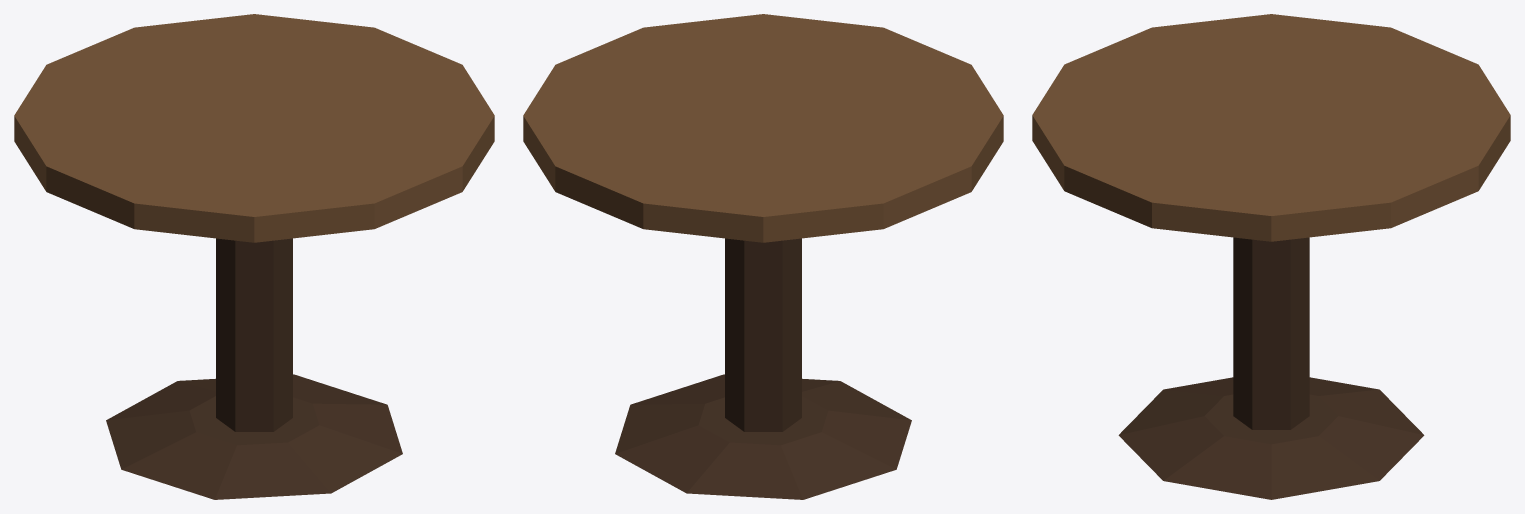
File: SM_Wood_Table_Round_A.glb
3 renders of one model, left to right at view 1: azimuth 30°, elevation 25°; view 2: azimuth 150°, elevation 25°; view 3: azimuth 270°, elevation 25°, orthographic.
Visible parts, largest first — view 1: SM_Wood_Table_Round_A; view 2: SM_Wood_Table_Round_A; view 3: SM_Wood_Table_Round_A.
Boxes of the visible parts, x1,y1,x2,y2 form: SM_Wood_Table_Round_A: (14, 14, 494, 499); SM_Wood_Table_Round_A: (523, 14, 1003, 499); SM_Wood_Table_Round_A: (1032, 14, 1510, 499).
Bounding box in the file's own units: 1.01 × 0.743 × 1.01.
Materials: 1 (1 with a texture image).
